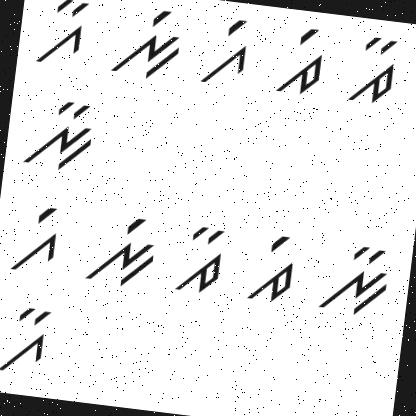gan: (28, 0, 93, 72), (0, 299, 55, 380)
gang: (194, 13, 256, 89), (7, 198, 66, 276)
ngan: (310, 237, 394, 324), (15, 96, 99, 176)
ngang: (81, 206, 162, 290), (107, 2, 188, 82)
tan: (345, 30, 406, 107), (173, 222, 231, 296)
tang: (239, 228, 302, 306), (270, 22, 332, 100)
